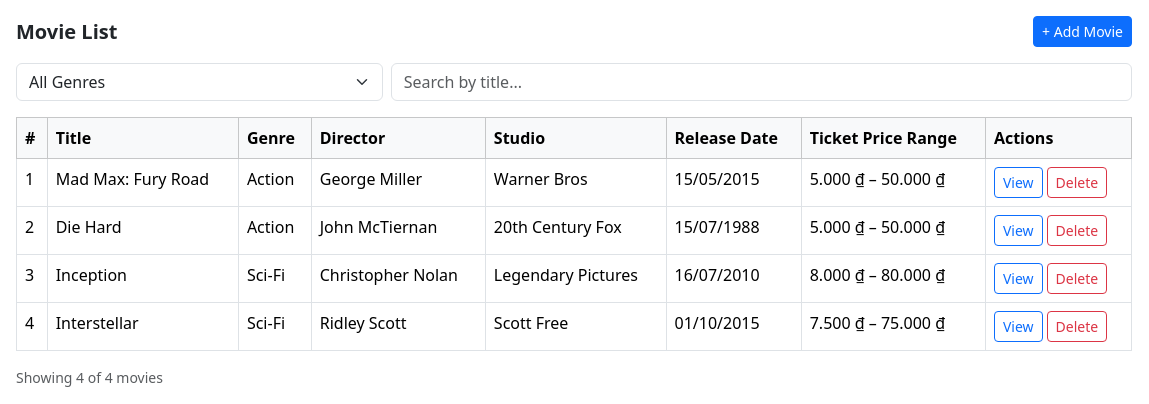
it: MovieList — TODO-07 › TODO-07: no match shows "No movies found."
Type "xyznotexist" into the field with placeholder "Search by title...".
click(761, 82); type("xyznotexist")  # box [391,63,1132,101]
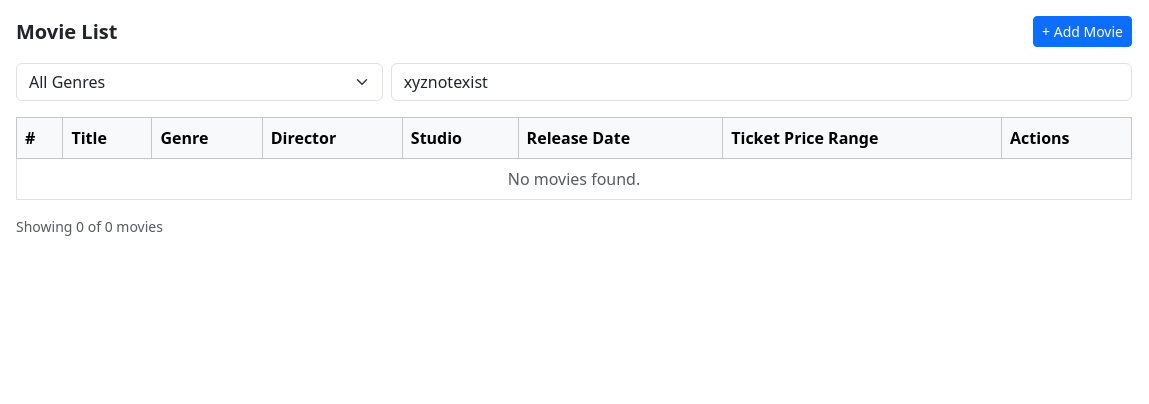
Result: the text "No movies found." is shown at [16,158,1132,200]
